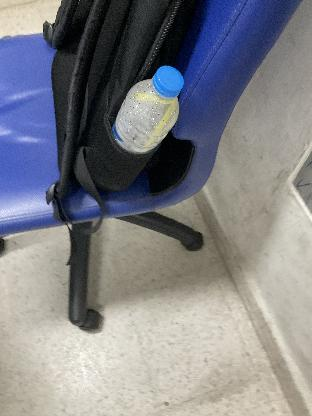Plastic Bottle: (110, 62, 186, 162)
